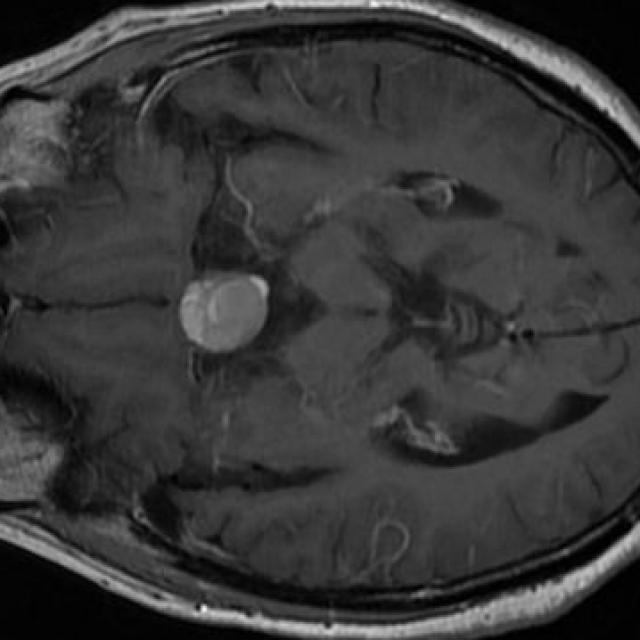pituitary: (178, 273, 269, 353)
